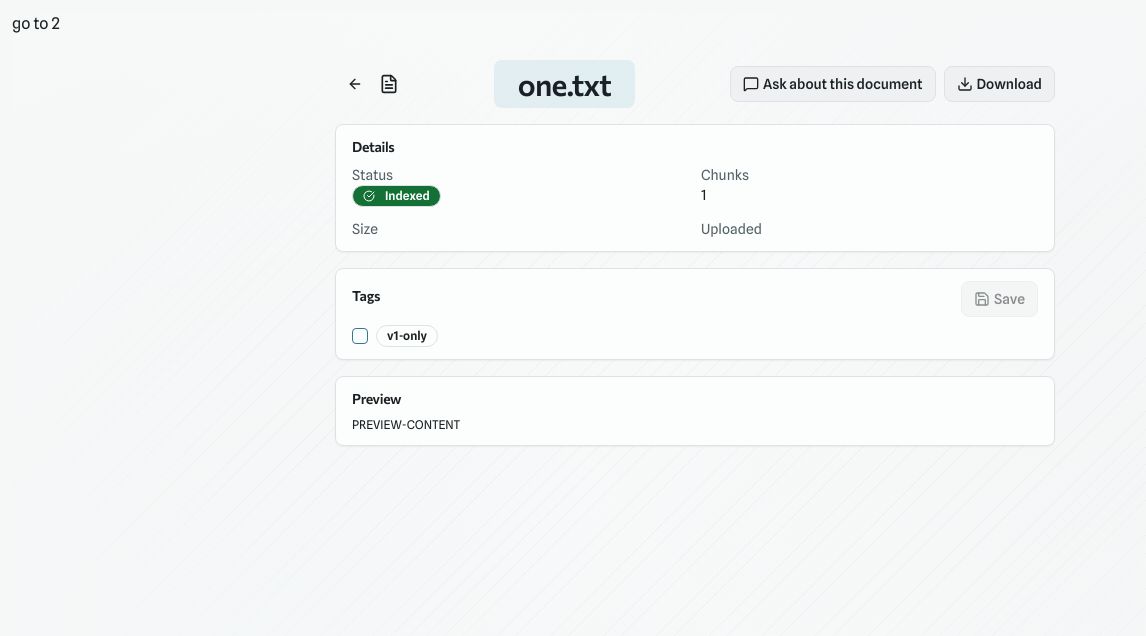
Test: DocumentDetailPage k01 — stale tag state across navigation › failed tag list load for the next document hides the previous vault tags
Check: the checkbox named "Tag v1-only" is shown, box x1=352 y1=328 x2=368 y2=344
// Navigate to document 2 (vault 2), whose listTags call FAILS.
What coordinates should you click on to do the following:
click the link with test id "nav-to-2"
I would click on:
 (36, 24)
Its box is x1=12 y1=14 x2=60 y2=33.
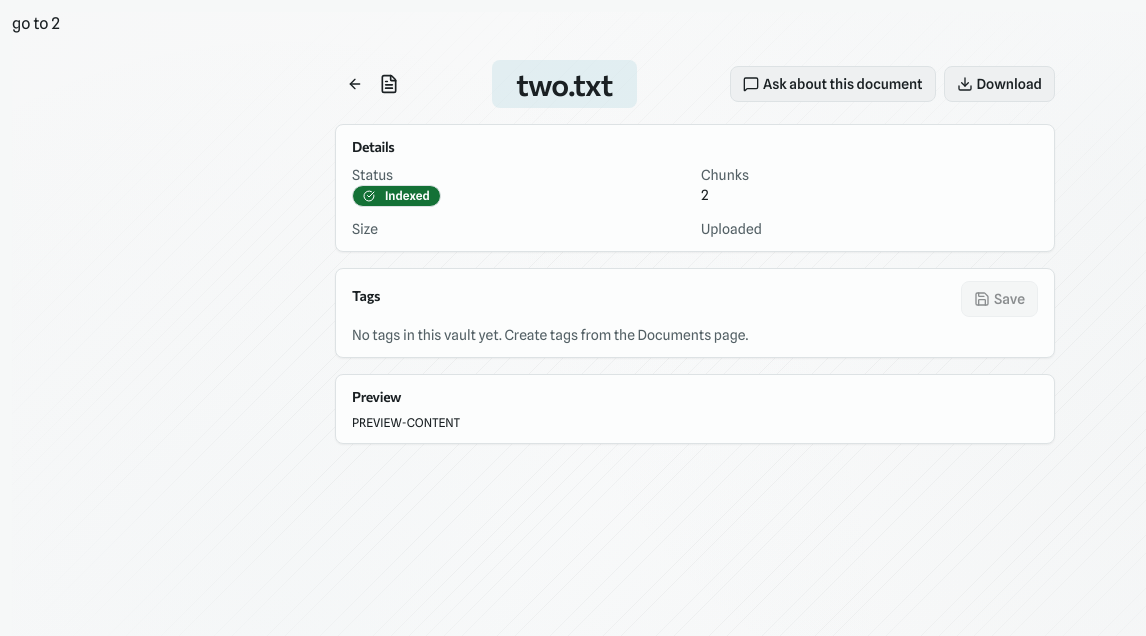
Check: the heading "two.txt" is shown, box x1=516 y1=66 x2=613 y2=102
